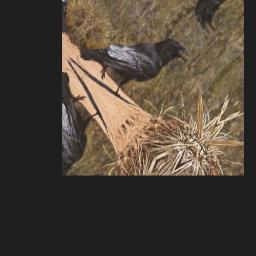Crow: (75, 0, 192, 118)
